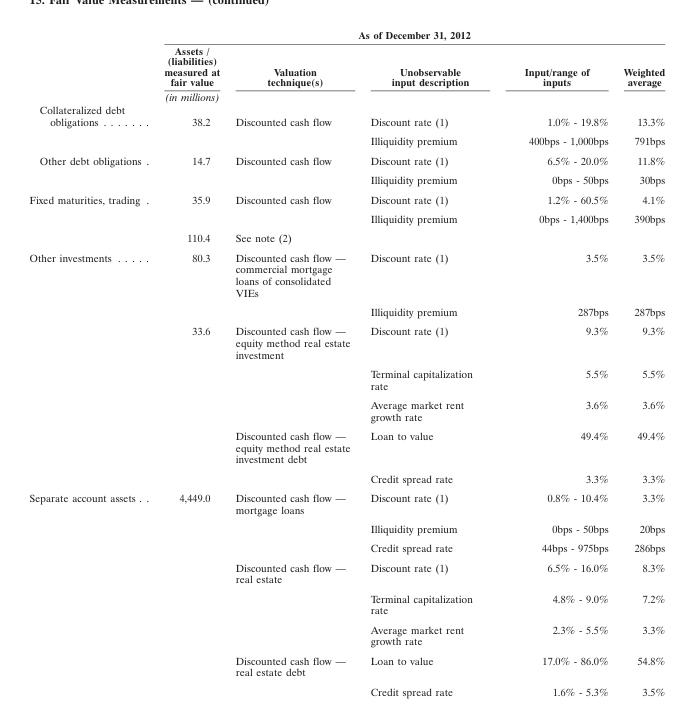table: (28, 28, 664, 697)
table column: (359, 28, 497, 697), (227, 28, 359, 697), (28, 28, 152, 697), (497, 28, 615, 697), (152, 28, 227, 697), (615, 28, 664, 697)
table column header: (28, 28, 664, 103)
table row: (28, 42, 664, 103), (28, 247, 664, 301), (28, 425, 664, 468), (28, 321, 664, 363), (28, 363, 664, 394), (28, 394, 664, 425), (28, 487, 664, 518), (28, 557, 664, 588), (28, 588, 664, 619), (28, 619, 664, 650), (28, 650, 664, 681), (28, 103, 664, 131), (28, 169, 664, 189), (28, 227, 664, 247), (28, 301, 664, 321), (28, 518, 664, 538), (28, 131, 664, 150), (28, 150, 664, 169), (28, 189, 664, 208), (28, 208, 664, 227), (28, 468, 664, 487), (28, 538, 664, 557), (28, 681, 664, 697), (28, 28, 664, 42)
table spanning cell: (152, 28, 664, 42)
